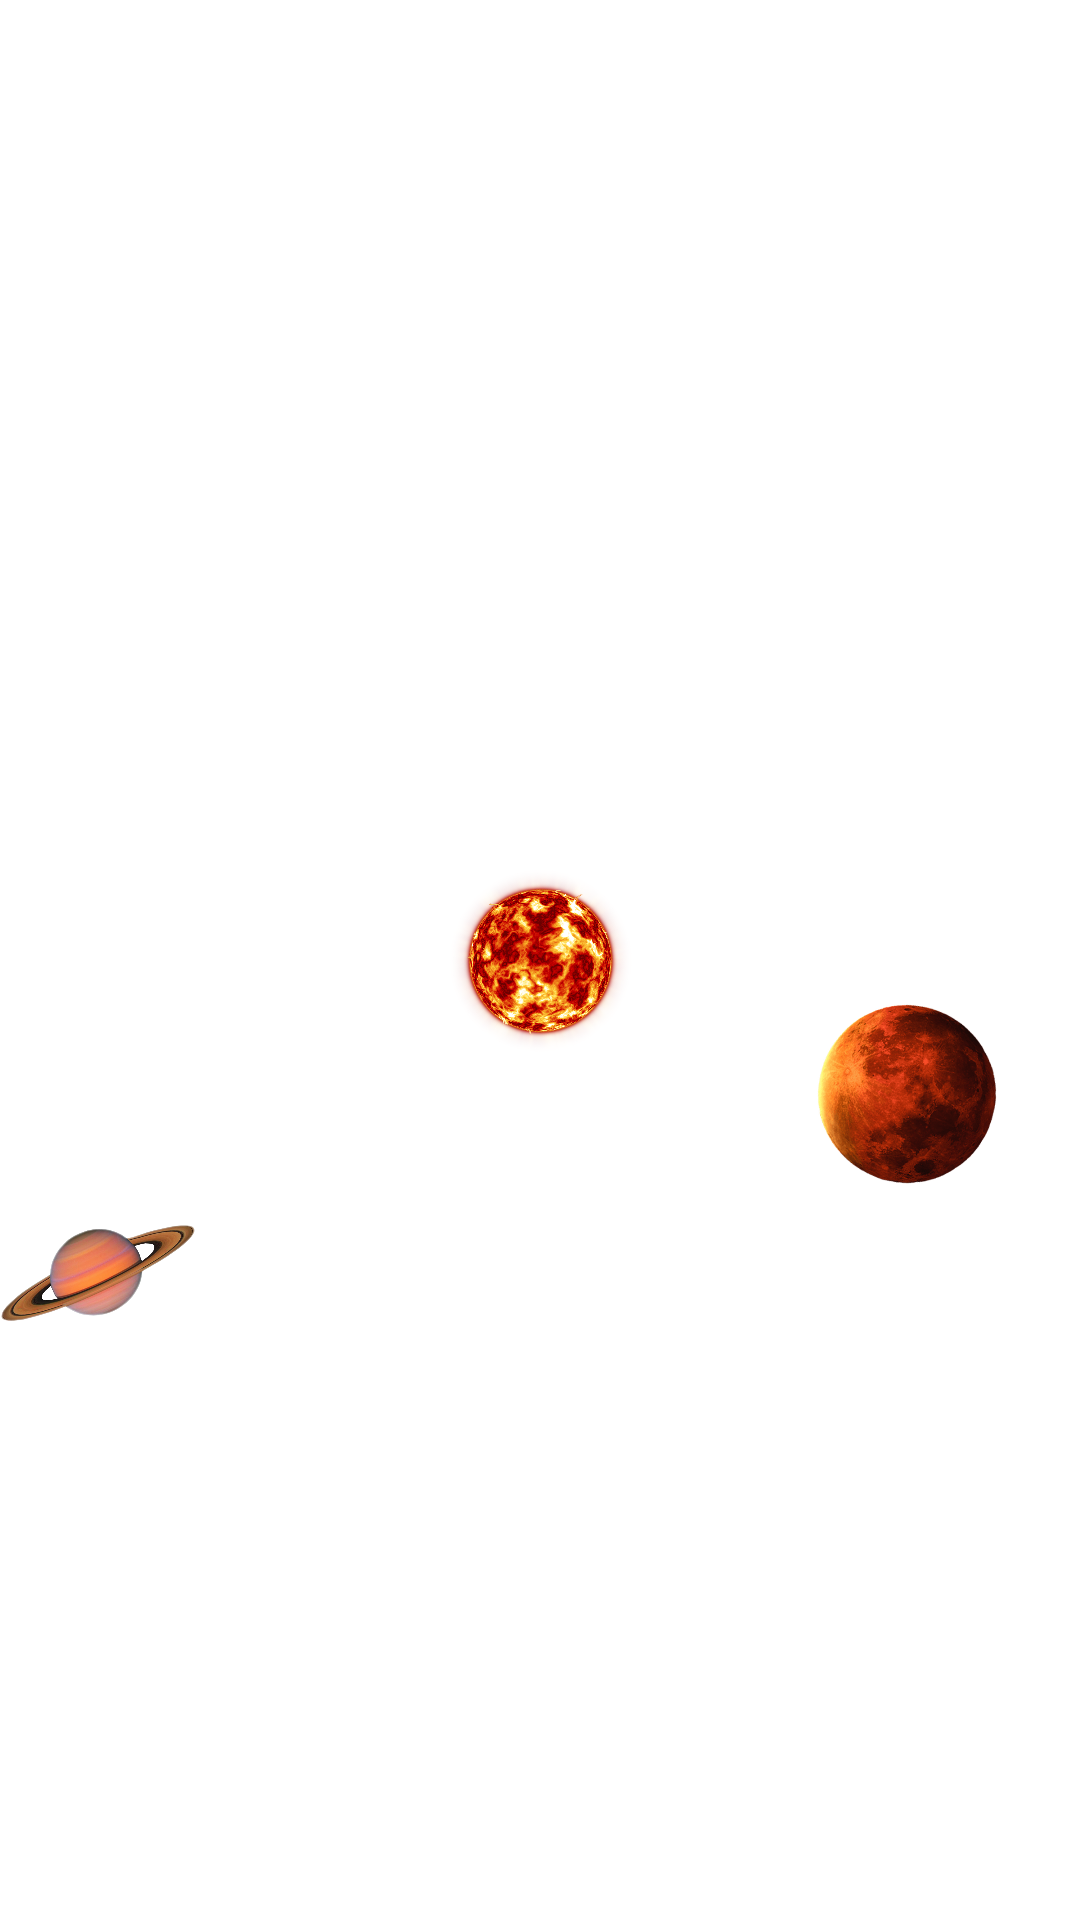

Screen size 1080px x 1920px. Icon name, then its center in pixels as (x,y):
mars: (907,1094)
saturn: (98,1273)
sun: (540,960)
